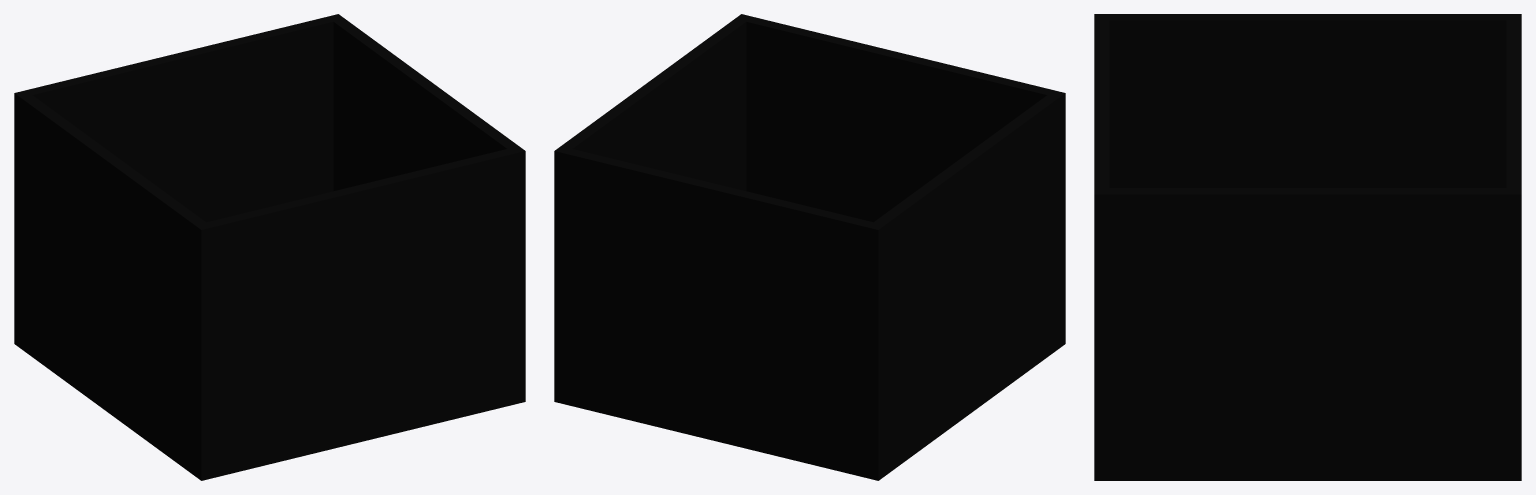
3 views of the same model, side by side, from view 1: azimuth 30°, elevation 25°; view 2: azimuth 150°, elevation 25°; view 3: azimuth 270°, elevation 25° (orthographic). The views are drawn at different scales.
Visible parts, largest first — view 1: Box_557x557x412; view 2: Box_557x557x412; view 3: Box_557x557x412.
Part boxes in pixels (x1,y1,x2,y2): Box_557x557x412: (14, 14, 525, 480); Box_557x557x412: (554, 14, 1065, 480); Box_557x557x412: (1094, 14, 1521, 480).
Size of the model in its own units: 0.557 by 0.412 by 0.557.
Materials: 1 (1 with a texture image).
